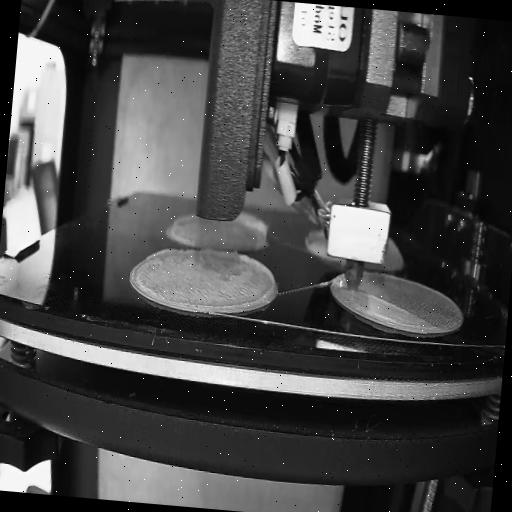over_extrusion: (194, 249, 279, 316), (355, 291, 406, 313), (240, 211, 270, 242), (146, 244, 180, 264), (172, 211, 196, 229)
